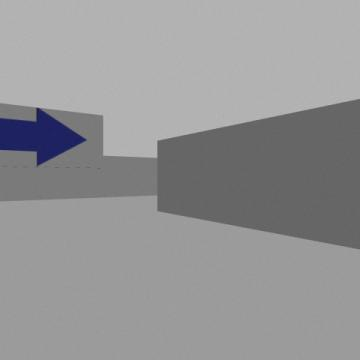blue_right: (0, 108, 86, 165)
